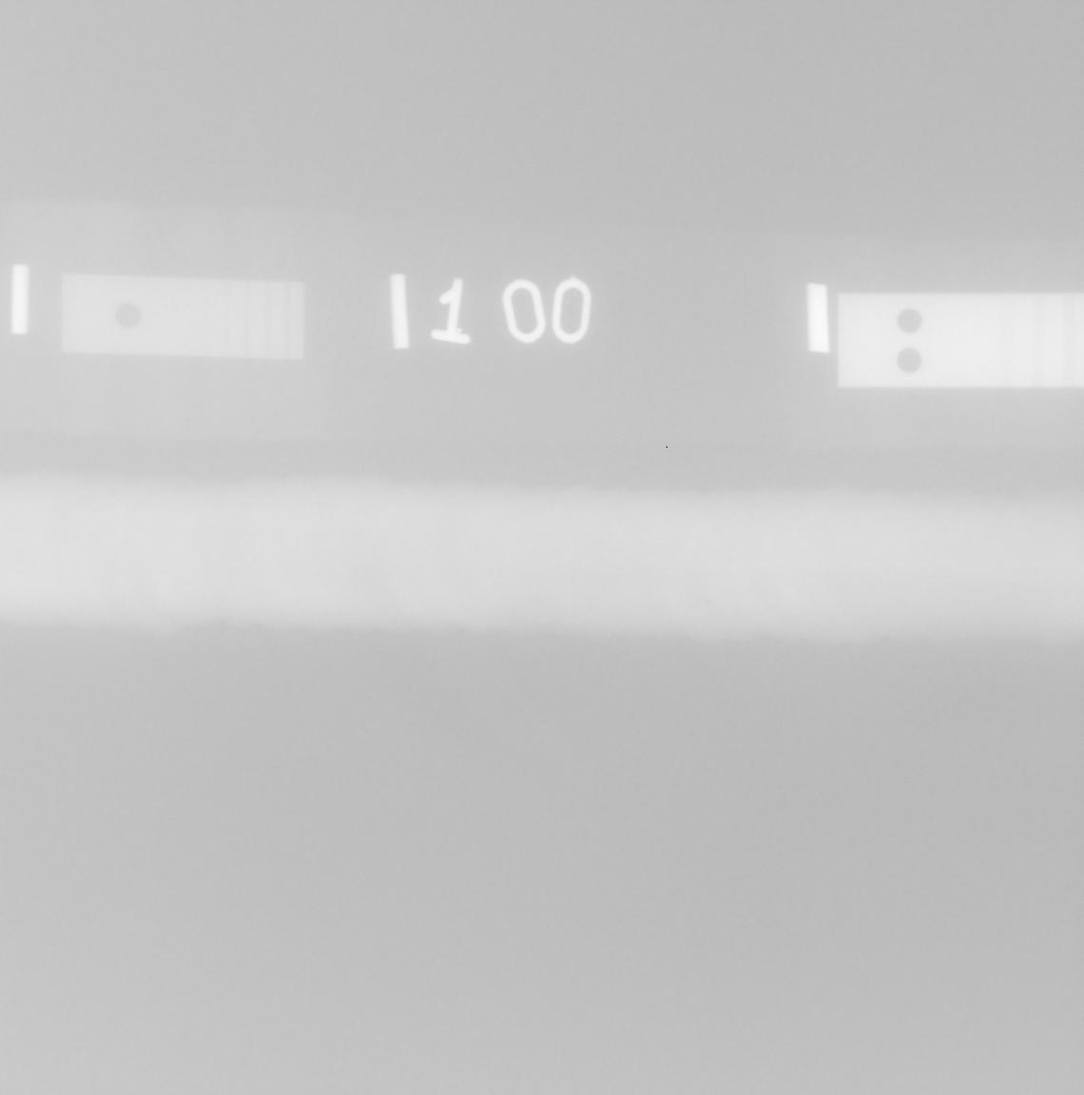Pore/Porosity: (704, 599, 713, 605), (109, 492, 116, 498)
Reference Standard 1: (61, 274, 304, 360)
